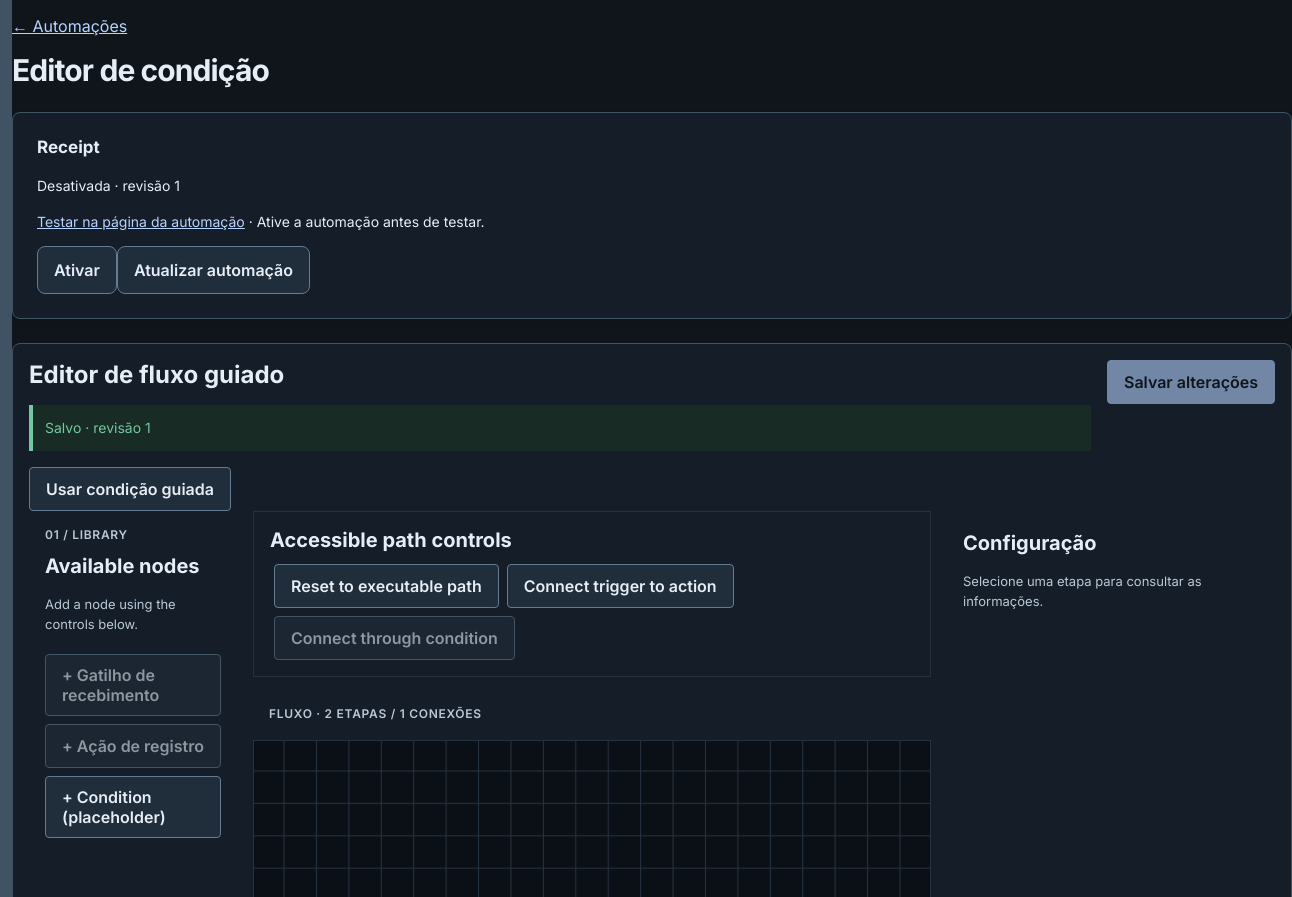
Test: automation screens › blocks activation for dirty and incomplete condition drafts, then activates after saving
Click the button "Usar condição guiada" at {"x": 130, "y": 489}, box x1=29 y1=467 x2=231 y2=511
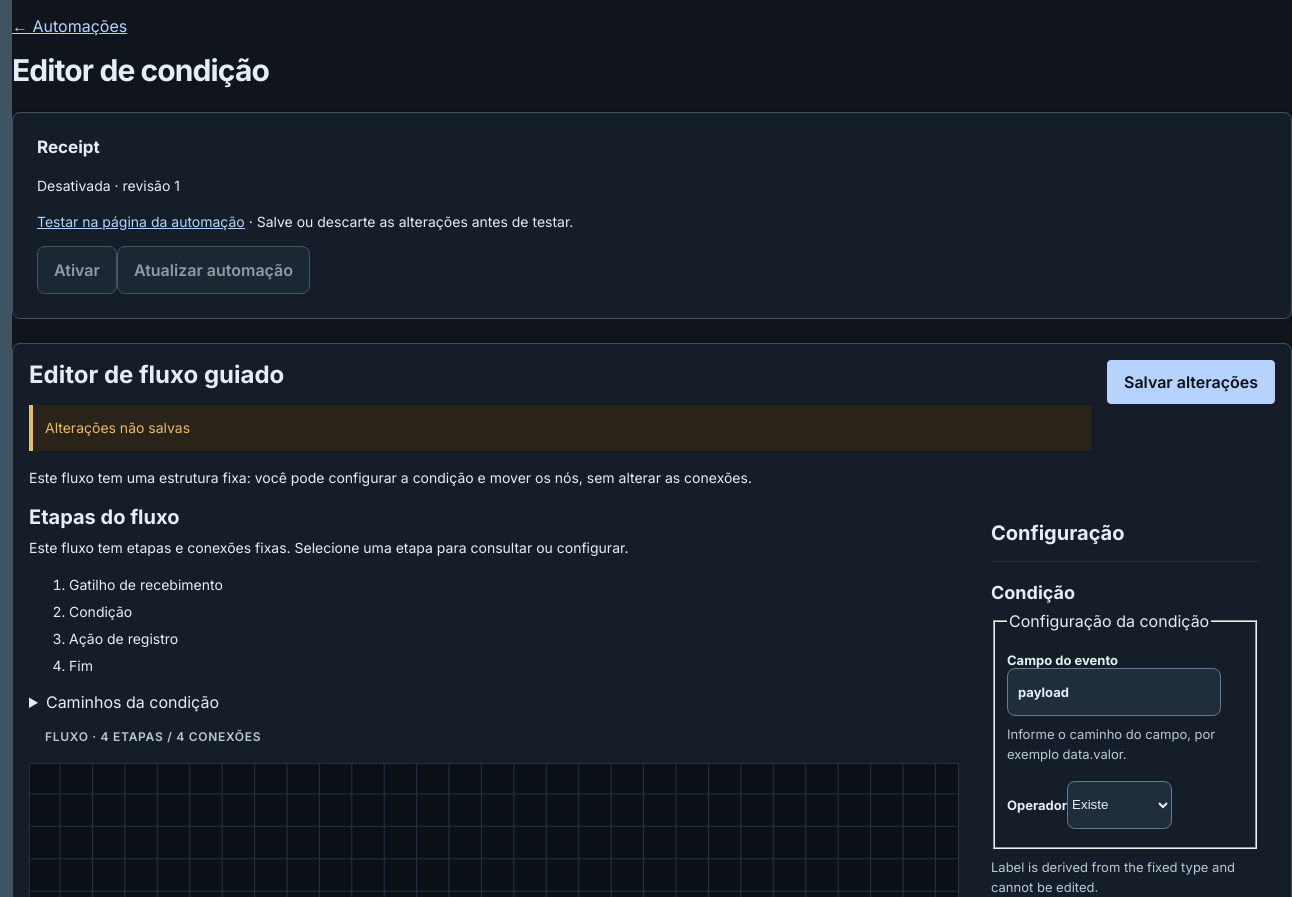
Expected: the button "Ativar" is disabled, x1=37 y1=246 x2=117 y2=294
Clear the field labelled "Campo do evento" at {"x": 1114, "y": 692}, box x1=1007 y1=668 x2=1221 y2=716
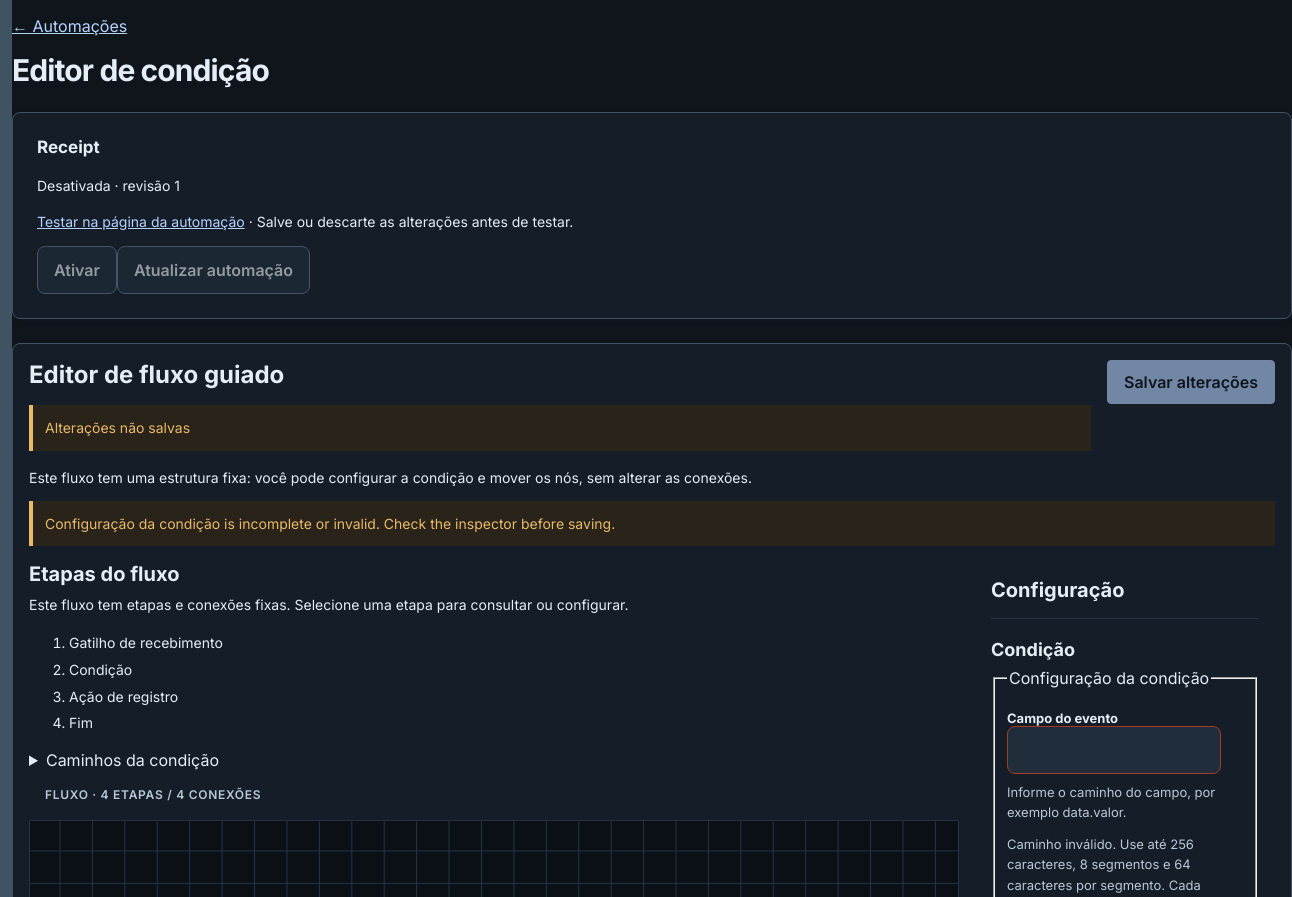
Expected: the button "Ativar" is disabled, x1=37 y1=246 x2=117 y2=294
Expected: the button "Salvar alterações" is disabled, x1=1107 y1=360 x2=1275 y2=404
Type "data.value" into the field labelled "Campo do evento" at {"x": 1114, "y": 750}, box x1=1007 y1=726 x2=1221 y2=774
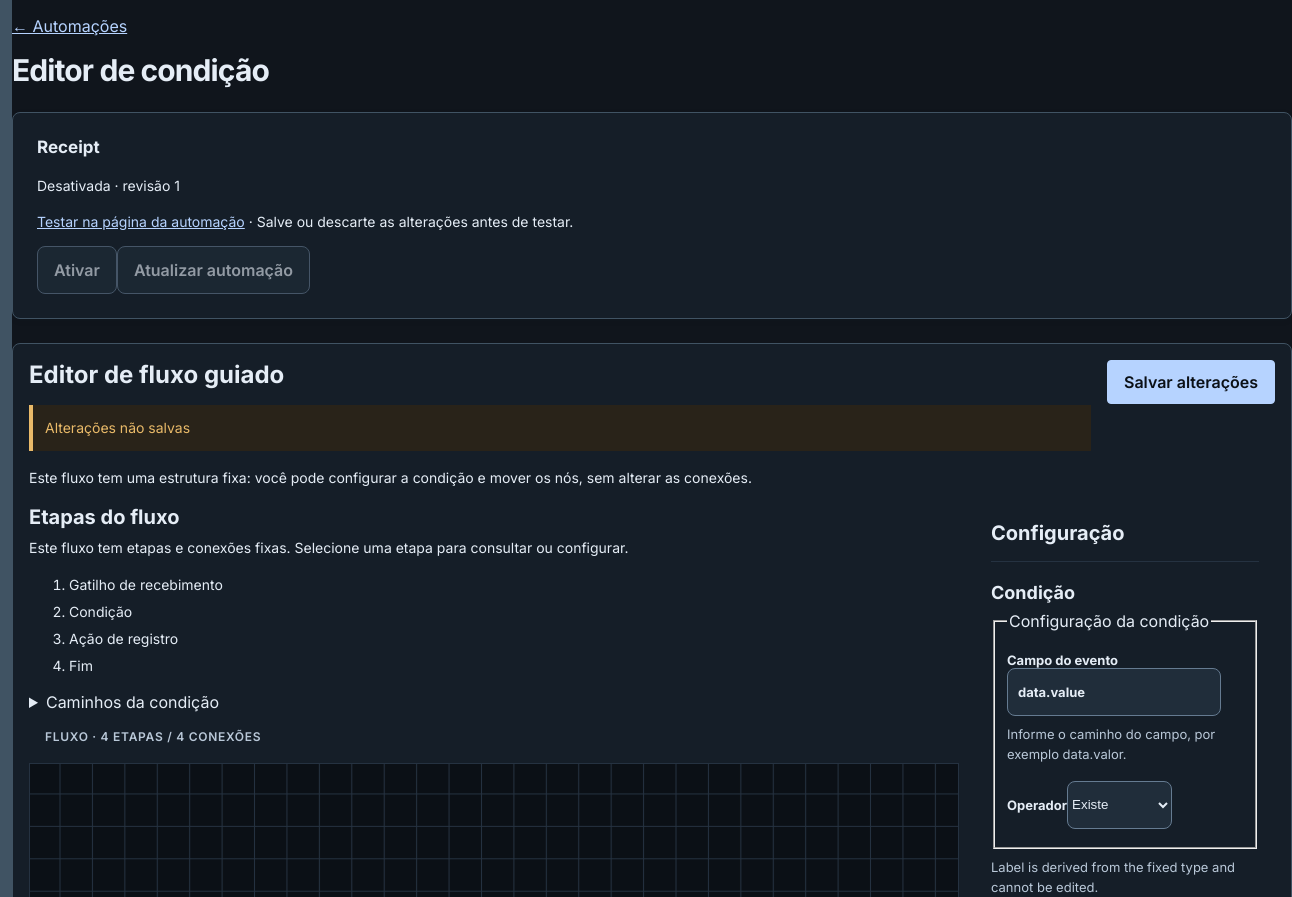
Expected: the button "Ativar" is disabled, x1=37 y1=246 x2=117 y2=294
Click the button "Salvar alterações" at {"x": 1191, "y": 382}, box x1=1107 y1=360 x2=1275 y2=404
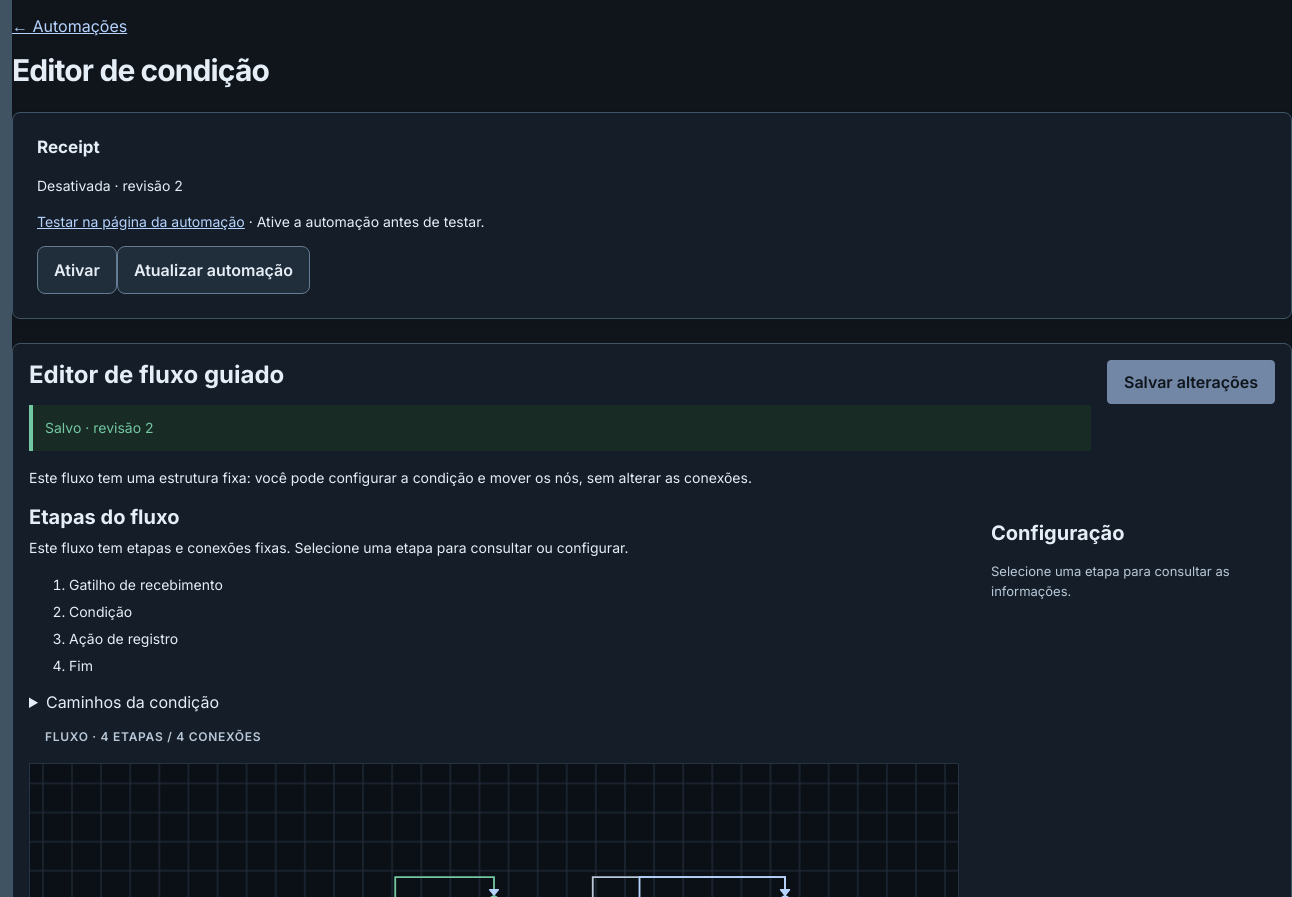
Expected: the button "Ativar" is enabled
Click the button "Ativar" at {"x": 77, "y": 270}, box x1=37 y1=246 x2=117 y2=294
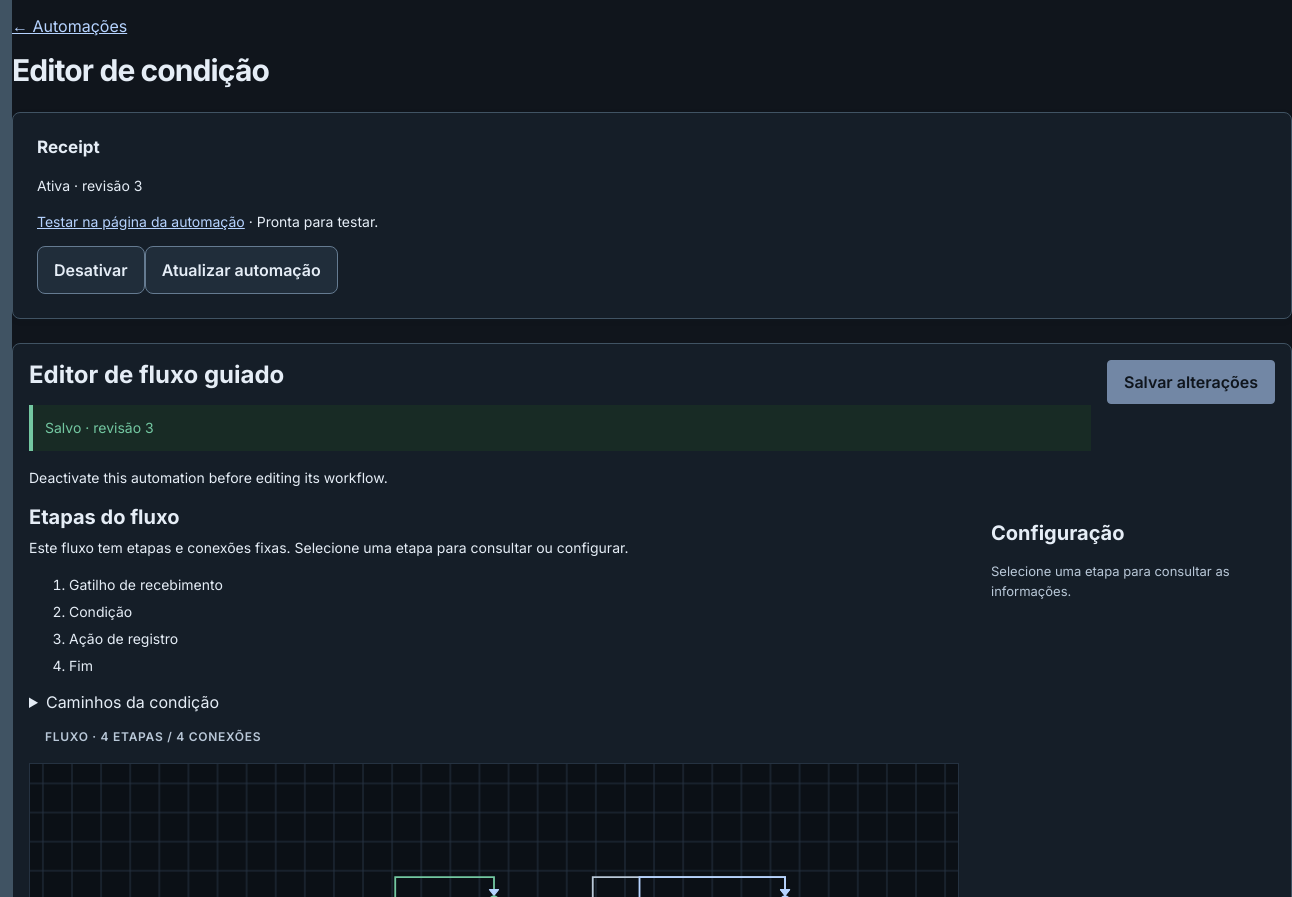
Expected: the button "Desativar" is shown, x1=37 y1=246 x2=145 y2=294
